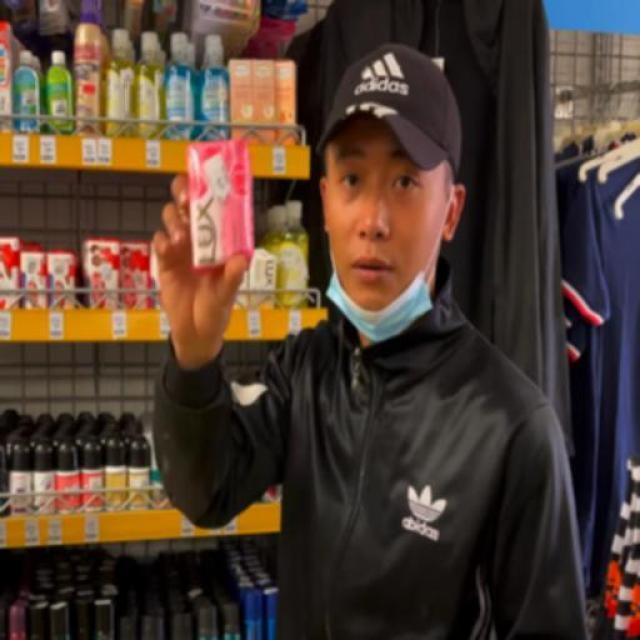hairnet: (323, 147, 438, 338)
